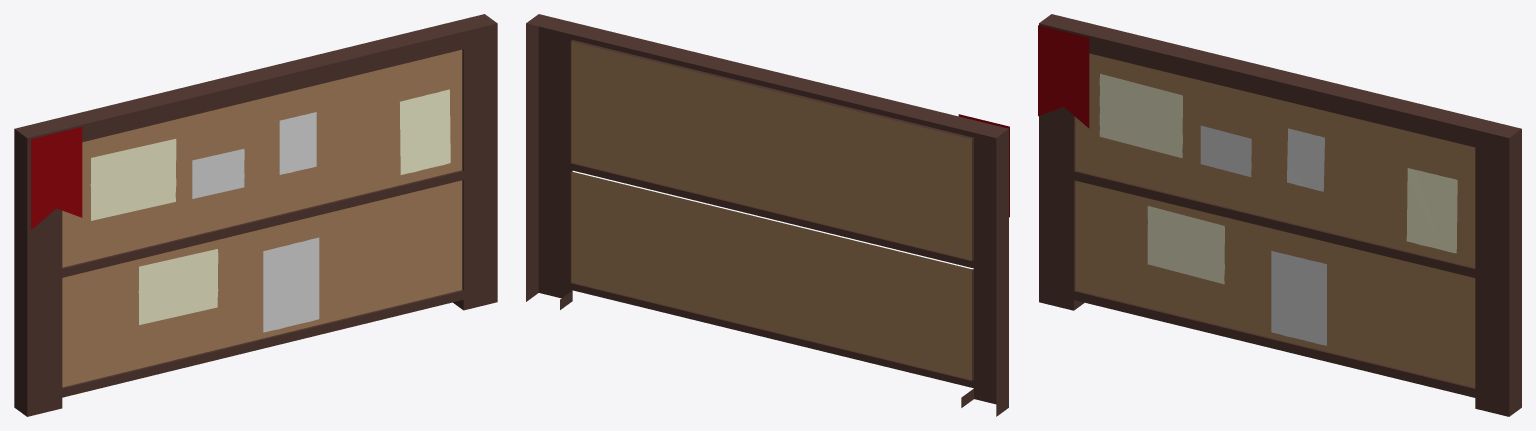
File: questBoard.glb
3 views of the same model, side by side, from view 1: azimuth 30°, elevation 25°; view 2: azimuth 150°, elevation 25°; view 3: azimuth 330°, elevation 25° (orthographic).
Visible parts, largest first — view 1: questsBoard; view 2: questsBoard; view 3: questsBoard.
Part boxes in pixels (x1=…): questsBoard: x1=14, y1=14, x2=497, y2=416; questsBoard: x1=526, y1=14, x2=1009, y2=416; questsBoard: x1=1038, y1=14, x2=1521, y2=416.
Bounding box in the file's own units: 4.24 × 2.4 × 0.2437.
